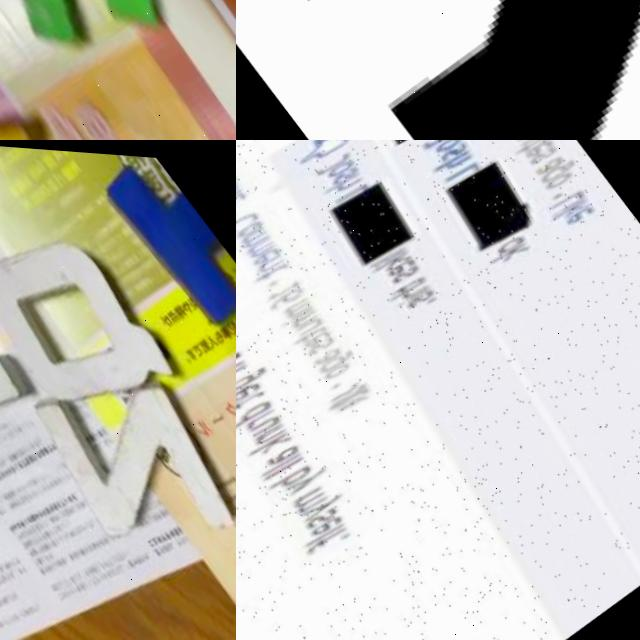1: (262, 271, 300, 306)
6: (265, 276, 306, 315)
F: (0, 0, 224, 85)
Q: (0, 188, 195, 456)
X: (0, 0, 104, 140)
Y: (236, 0, 640, 140)
Z: (31, 344, 236, 592)
